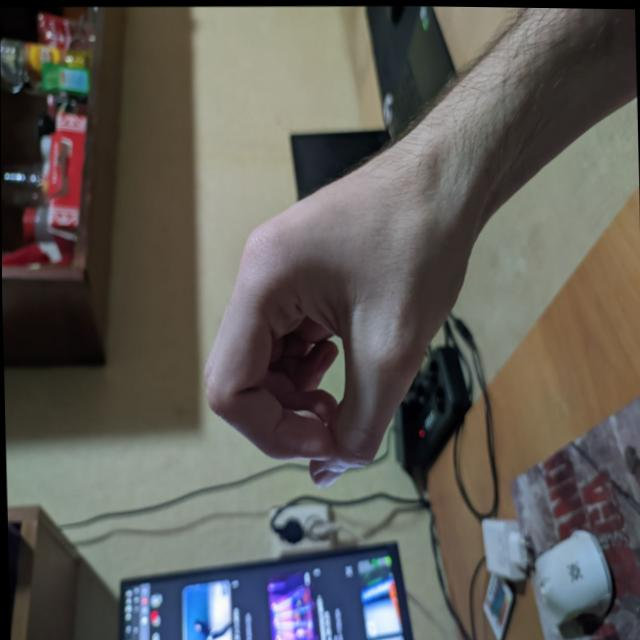e: (199, 162, 499, 497)
